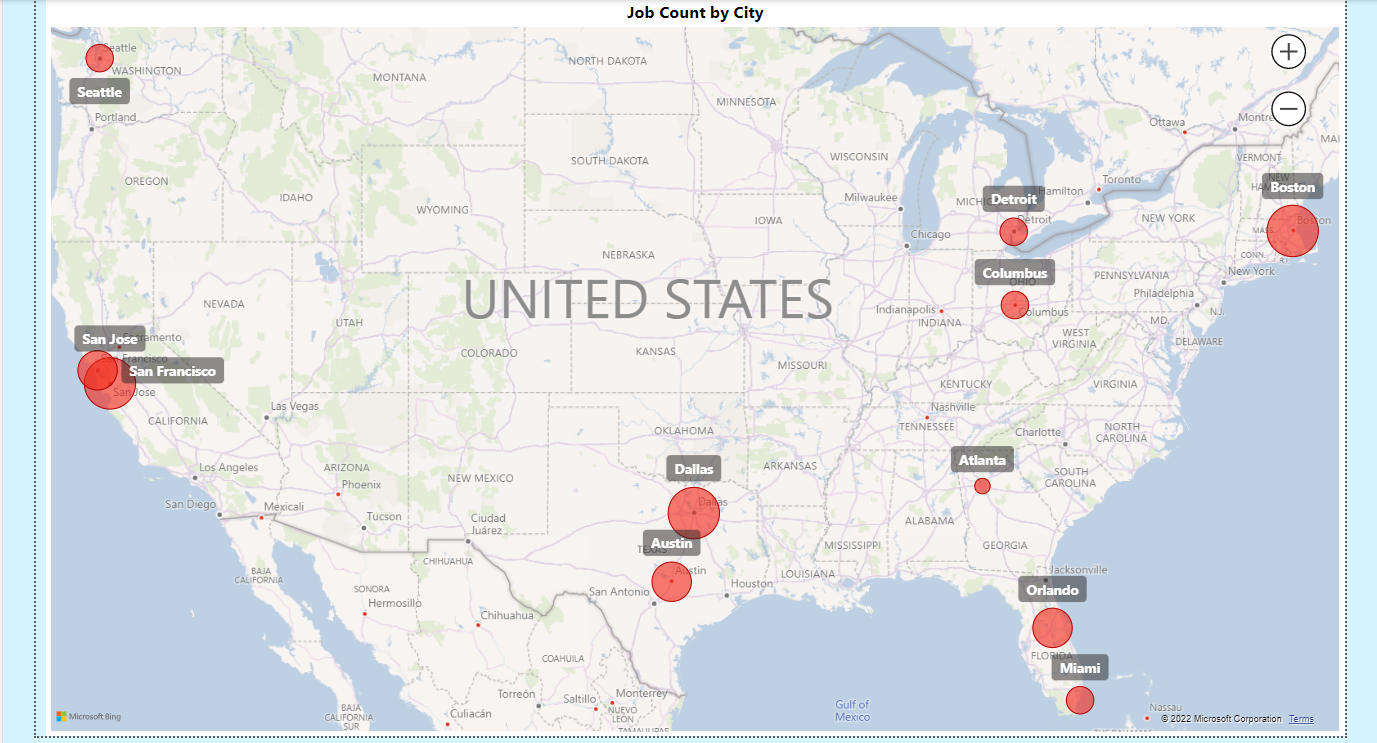

This screenshot's page, from the dashboard's own definition file:
{"tool":"powerbi","page":{"name":"City Map","canvas":[1280,720],"ordinal":0},"visuals":[{"type":"map","fields":{"Size":["CountNonNull(JOB POST.Job_Location_ID)"],"Category":["JOB LOCATION.City"]},"box":[9.8,0,1270.1,720],"z":0}]}

Visuals, with their boxes in screenshot pixels (x1, y1, x2, y2):
map - CountNonNull(JOB POST.Job_Location_ID) x JOB LOCATION.City: bbox(49, 0, 1341, 732)
